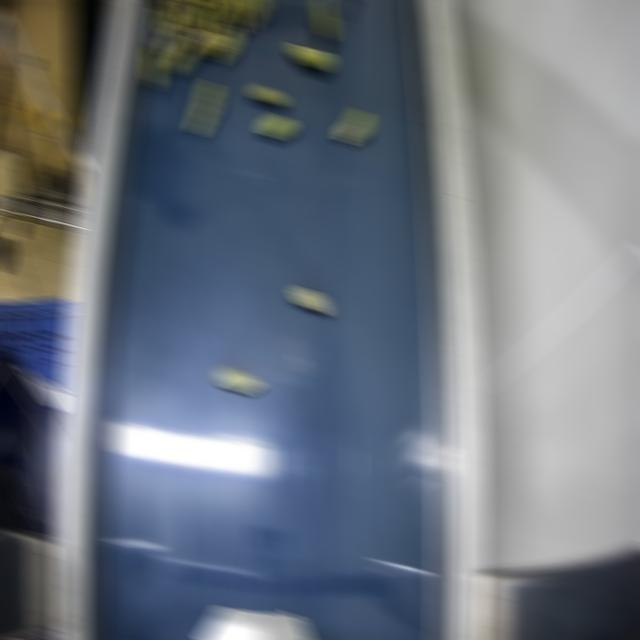Baby Potato: (189, 78, 220, 136), (216, 362, 260, 394), (290, 284, 330, 316), (183, 0, 219, 35), (165, 37, 199, 74), (337, 107, 371, 144), (289, 42, 332, 71), (209, 23, 239, 64), (159, 22, 186, 60), (259, 113, 295, 139), (144, 45, 164, 90), (190, 28, 223, 54), (250, 83, 286, 106), (313, 0, 334, 39), (207, 0, 230, 34), (156, 1, 174, 40), (242, 0, 267, 27), (225, 0, 246, 30), (165, 0, 183, 30), (174, 0, 193, 25)
